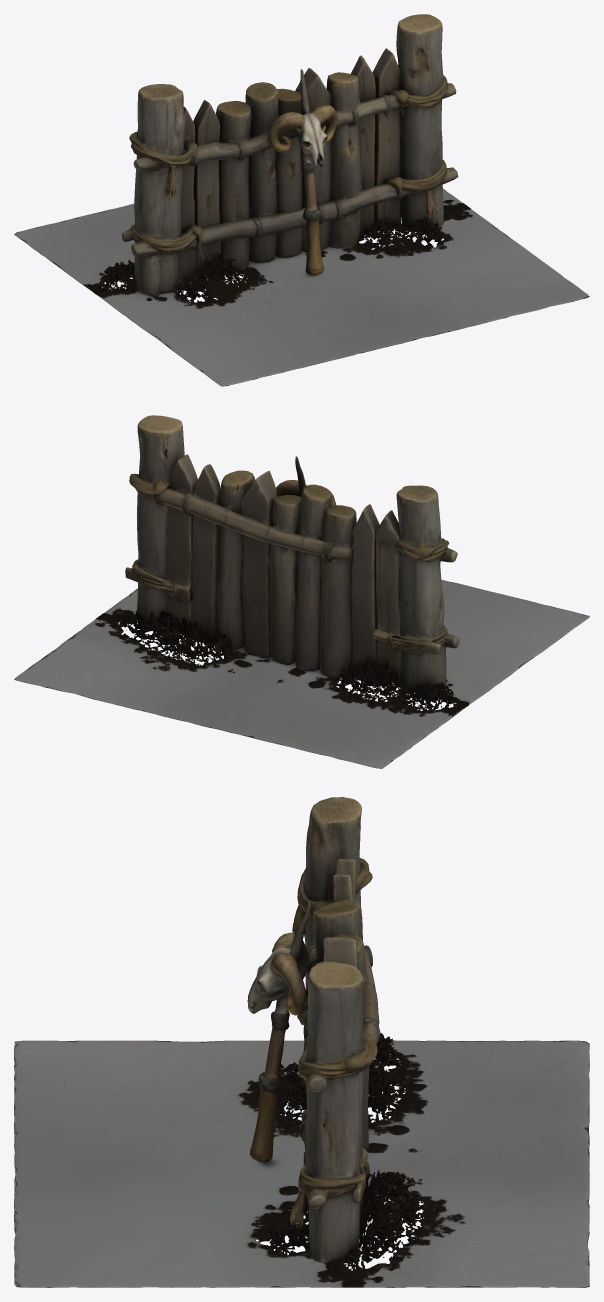
The model's file is goblin-palisade-b-v2.glb.
3 views of the same model, one above another, from view 1: azimuth 30°, elevation 25°; view 2: azimuth 150°, elevation 25°; view 3: azimuth 270°, elevation 25° (orthographic). The views are drawn at different scales.
Visible parts, largest first — view 1: world; view 2: world; view 3: world.
Boxes of the visible parts, x1,y1,x2,y2 form: world: [14, 14, 589, 386]; world: [14, 415, 589, 768]; world: [14, 797, 589, 1287].
Size of the model in its own units: 0.9999 by 0.5224 by 0.9811.
1 material, 1 textured.
